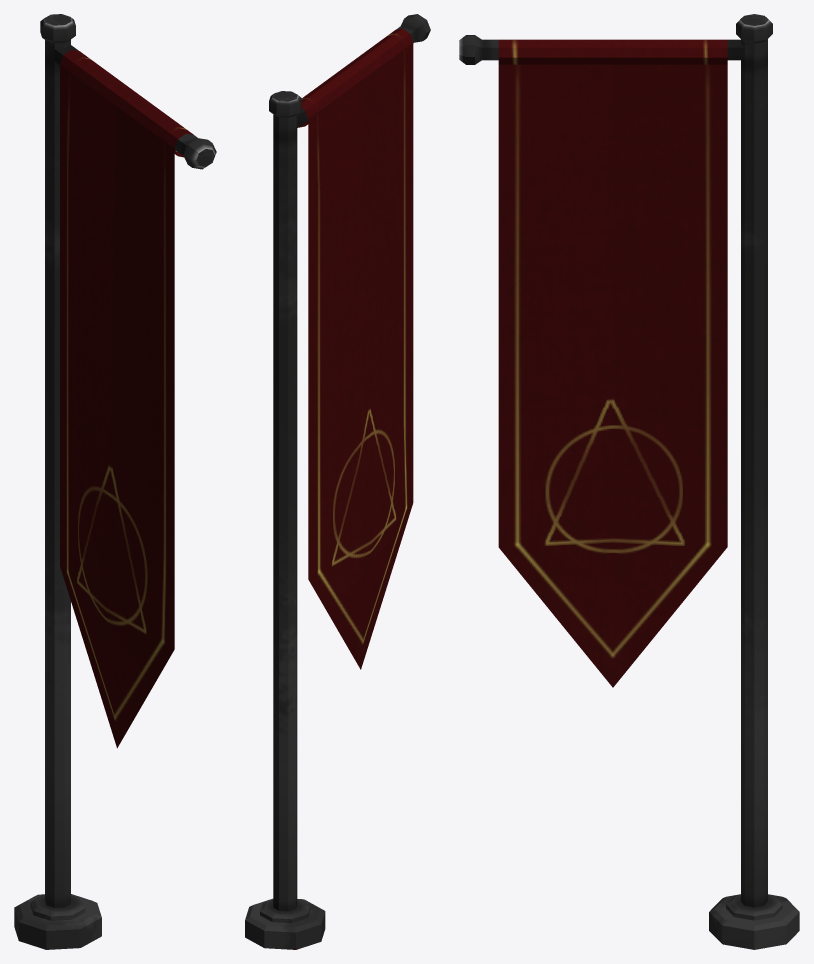
File: SM_drapsInvert.fbx
The picture shows the model from 3 angles, left to right: view 1: azimuth 30°, elevation 25°; view 2: azimuth 150°, elevation 25°; view 3: azimuth 270°, elevation 25°; orthographic projection. The views are drawn at different scales.
Visible parts, largest first — view 1: SM_drapsInvert; view 2: SM_drapsInvert; view 3: SM_drapsInvert.
Part boxes in pixels (left/top/right/bottom): SM_drapsInvert: left=14, top=14, right=216, bottom=949; SM_drapsInvert: left=245, top=14, right=430, bottom=949; SM_drapsInvert: left=459, top=14, right=799, bottom=949.
Size of the model in its own units: 0.4938 by 5.47 by 1.85.
